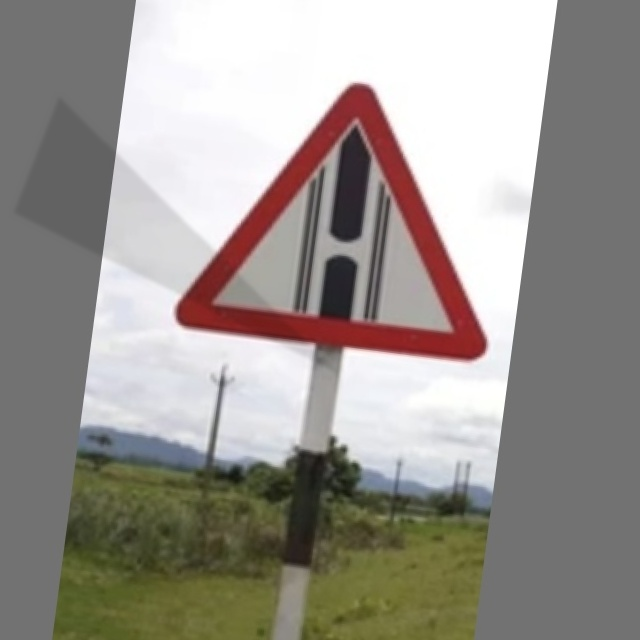Gap_in_Median: (174, 46, 519, 365)
